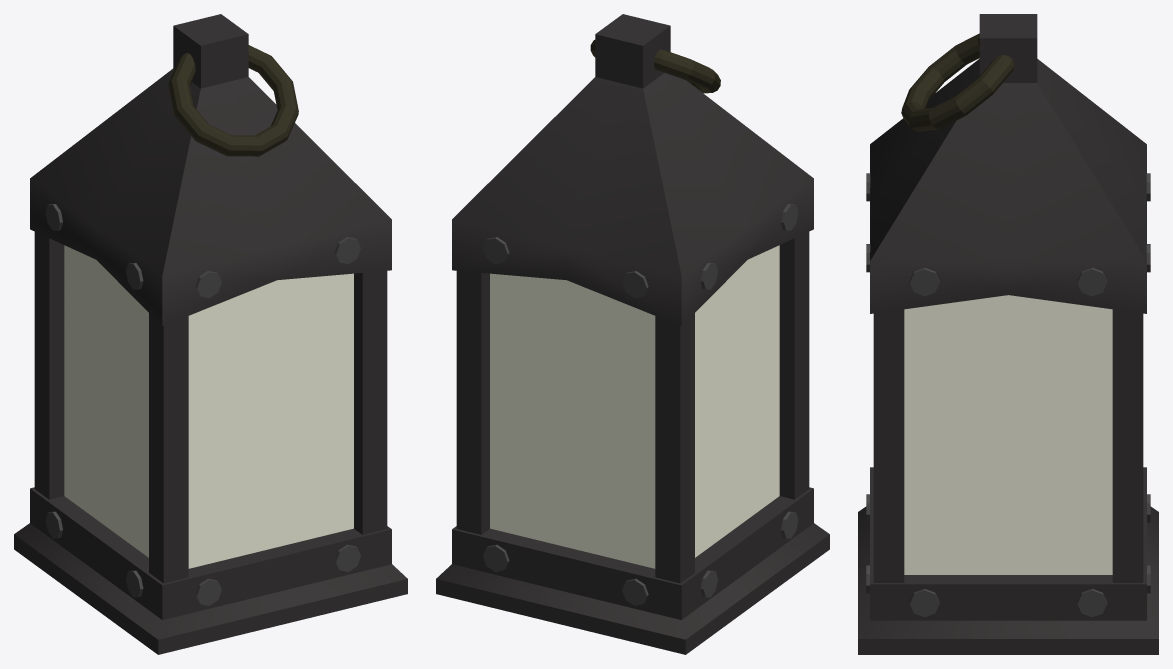
File: Lantern.fbx
3 views of the same model, side by side, from view 1: azimuth 30°, elevation 25°; view 2: azimuth 150°, elevation 25°; view 3: azimuth 270°, elevation 25° (orthographic). The views are drawn at different scales.
Visible parts, largest first — view 1: Lantern; view 2: Lantern; view 3: Lantern.
Part boxes in pixels (bbox=[...]): Lantern: bbox=[14, 14, 407, 654]; Lantern: bbox=[436, 14, 829, 654]; Lantern: bbox=[858, 14, 1158, 654].
Size of the model in its own units: 20.09 by 41.65 by 20.09.
